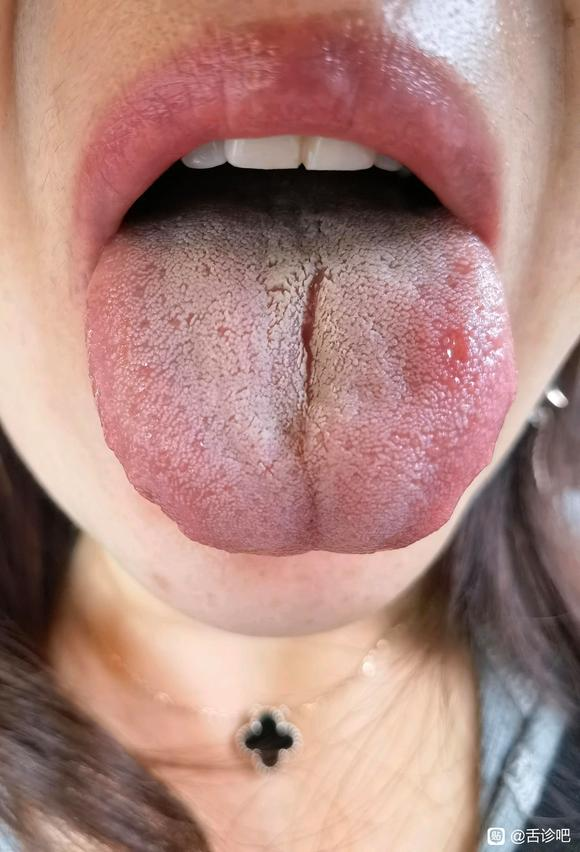baitaishe: (87, 200, 515, 556)
hongshe: (87, 200, 515, 556)
liewenshe: (292, 265, 329, 409)
xinfeiao: (261, 531, 365, 556)
